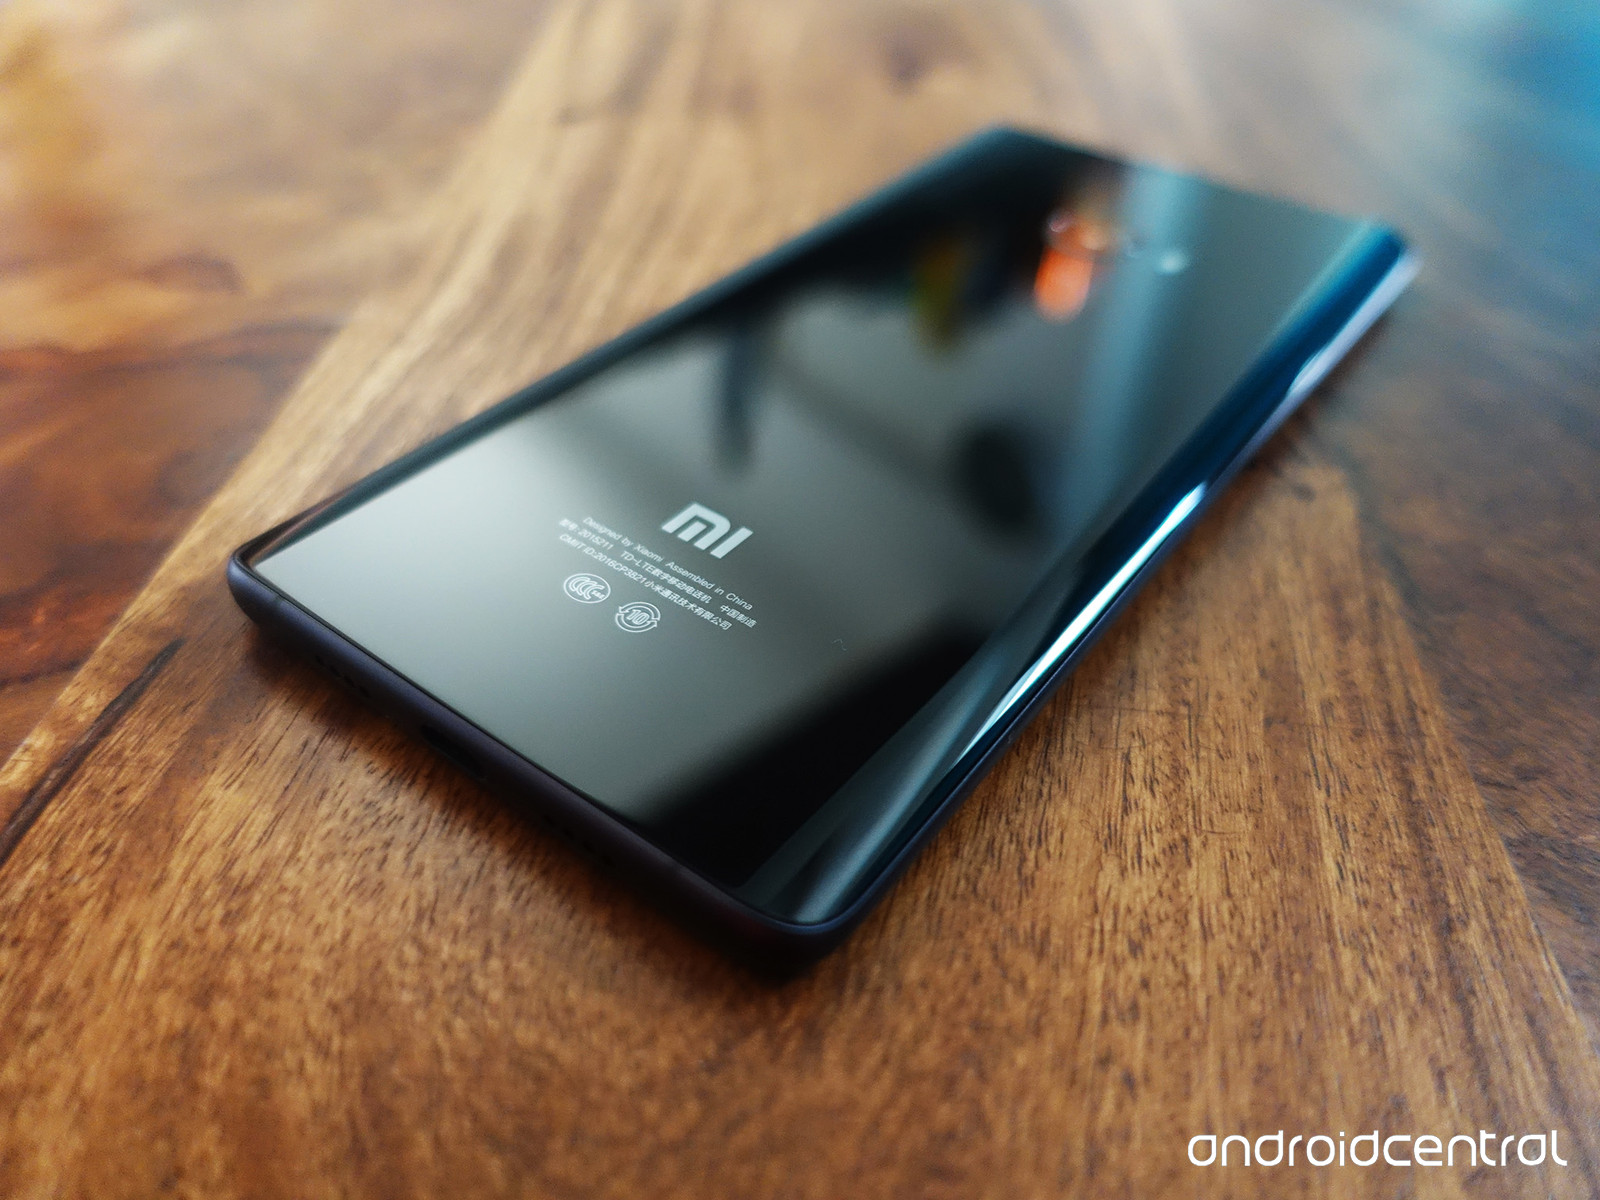smartphone: (223, 124, 1424, 957)
